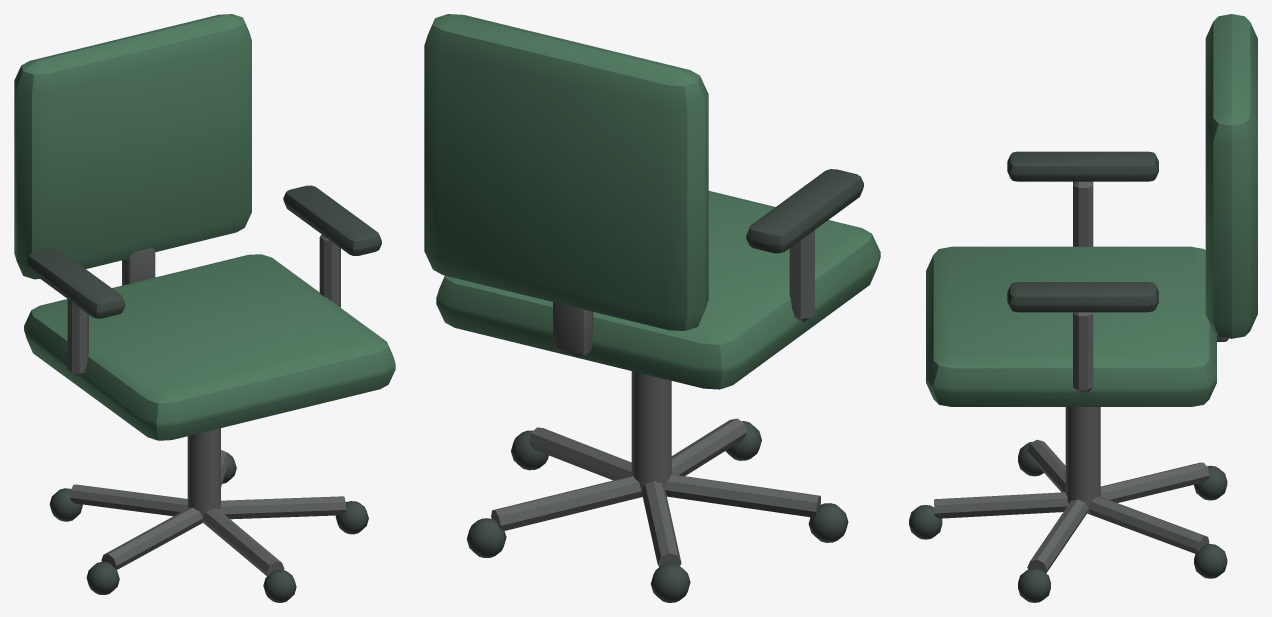
The model's file is chair.glb.
The picture shows the model from 3 angles, left to right: view 1: azimuth 30°, elevation 25°; view 2: azimuth 150°, elevation 25°; view 3: azimuth 270°, elevation 25°; orthographic projection. The views are drawn at different scales.
Parts seen in each view (by area): view 1: FURN-chair; view 2: FURN-chair; view 3: FURN-chair.
Part boxes in pixels (bbox=[...]): FURN-chair: bbox=[14, 14, 395, 602]; FURN-chair: bbox=[424, 14, 880, 602]; FURN-chair: bbox=[909, 14, 1257, 602].
Bounding box in the file's own units: 0.6 × 0.9 × 0.5988.
